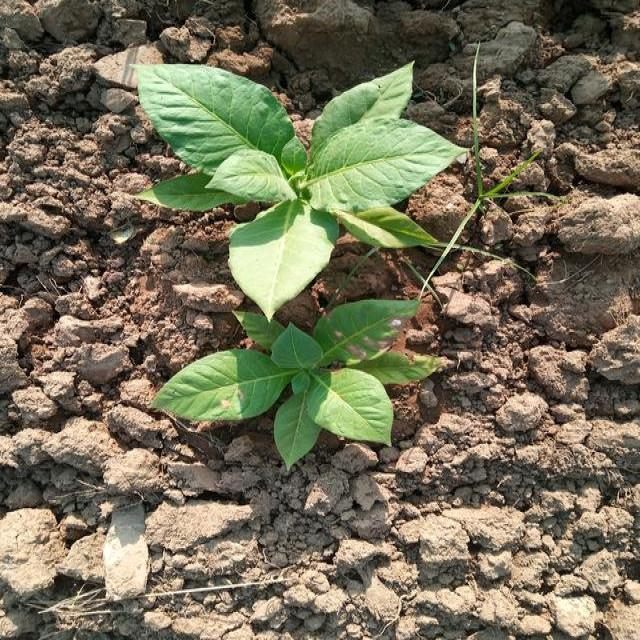crop: (128, 54, 464, 310), (147, 315, 440, 467)
